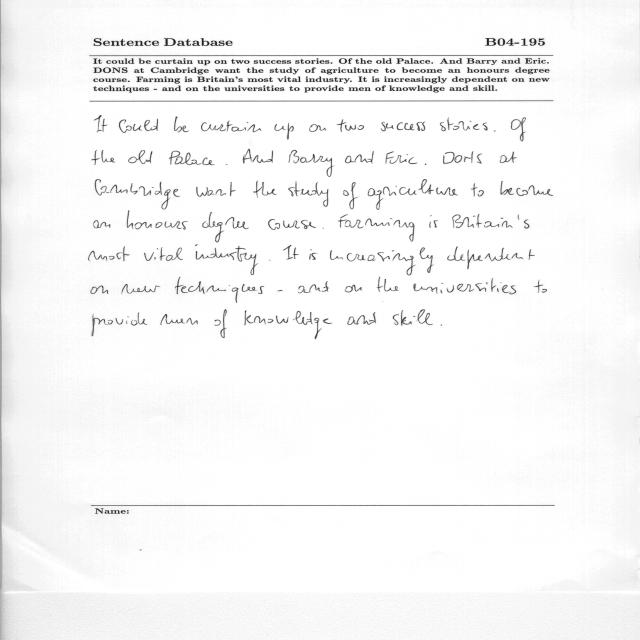word: (330, 248, 434, 276), (368, 179, 458, 210), (244, 310, 332, 339), (95, 180, 180, 210), (175, 277, 264, 303), (338, 214, 414, 242), (447, 247, 535, 270), (195, 245, 258, 275), (414, 278, 517, 294), (202, 212, 249, 242), (92, 313, 147, 337), (288, 150, 334, 177), (452, 214, 530, 229), (127, 211, 188, 230), (289, 181, 329, 207), (501, 181, 554, 196), (201, 121, 262, 132), (393, 310, 433, 326), (169, 151, 214, 165), (88, 247, 130, 262), (440, 118, 488, 131), (196, 182, 236, 197), (119, 119, 158, 133), (144, 247, 183, 261), (268, 219, 316, 230), (443, 151, 482, 164), (243, 149, 273, 164), (381, 122, 425, 132), (343, 182, 358, 210), (160, 314, 198, 325), (386, 151, 418, 164), (253, 181, 277, 198), (122, 284, 161, 294), (347, 312, 376, 325), (336, 119, 364, 132), (214, 310, 227, 338), (511, 118, 526, 142), (92, 150, 116, 165), (298, 281, 328, 293), (128, 150, 153, 164), (345, 151, 374, 163), (274, 123, 294, 140), (377, 277, 399, 292), (174, 117, 189, 133), (283, 245, 299, 260), (95, 116, 107, 133), (500, 152, 517, 163), (471, 184, 484, 197), (534, 280, 547, 293), (91, 285, 108, 294), (309, 124, 326, 132), (94, 220, 111, 228), (345, 285, 362, 292), (429, 215, 438, 228), (309, 249, 318, 260), (277, 290, 283, 291), (494, 130, 496, 132), (226, 164, 228, 165), (425, 163, 426, 165), (441, 325, 442, 326), (322, 228, 324, 228), (269, 260, 271, 260)
